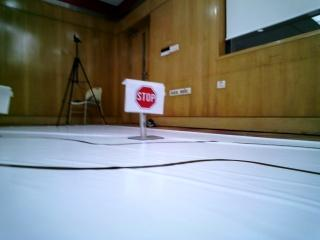stop: (128, 80, 162, 113)
